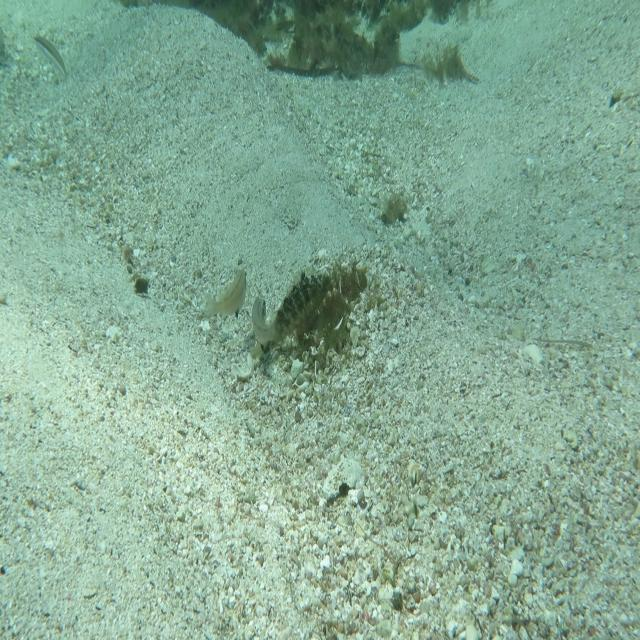Coris_julis_female: (32, 28, 73, 90)
ROLL: (248, 264, 335, 368)
female: (247, 292, 289, 347)
nest: (280, 258, 378, 374)
other_fish: (198, 256, 254, 329)
